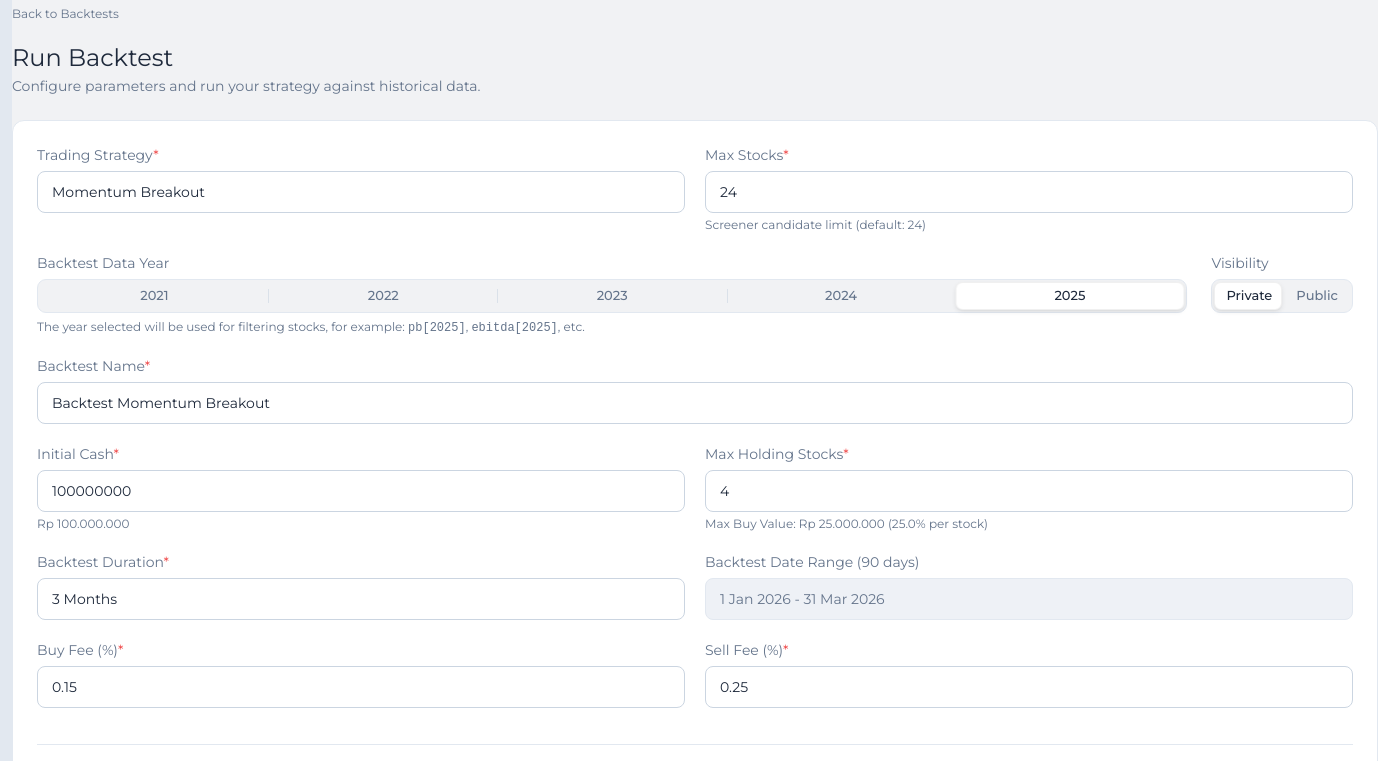
Scenario: NewBacktestPage › displays dynamic stock filtering year informative note under Backtest Data Year
Expected: the text "Backtest Date Range (90 days)" is shown, [705,553,919,571]
Expected: the text "The year selected will be used for filtering stocks" is shown, [37,319,408,334]
# Change year to 2022
Click the button "2022". click: {"x": 383, "y": 296}
box: [269,282,498,310]
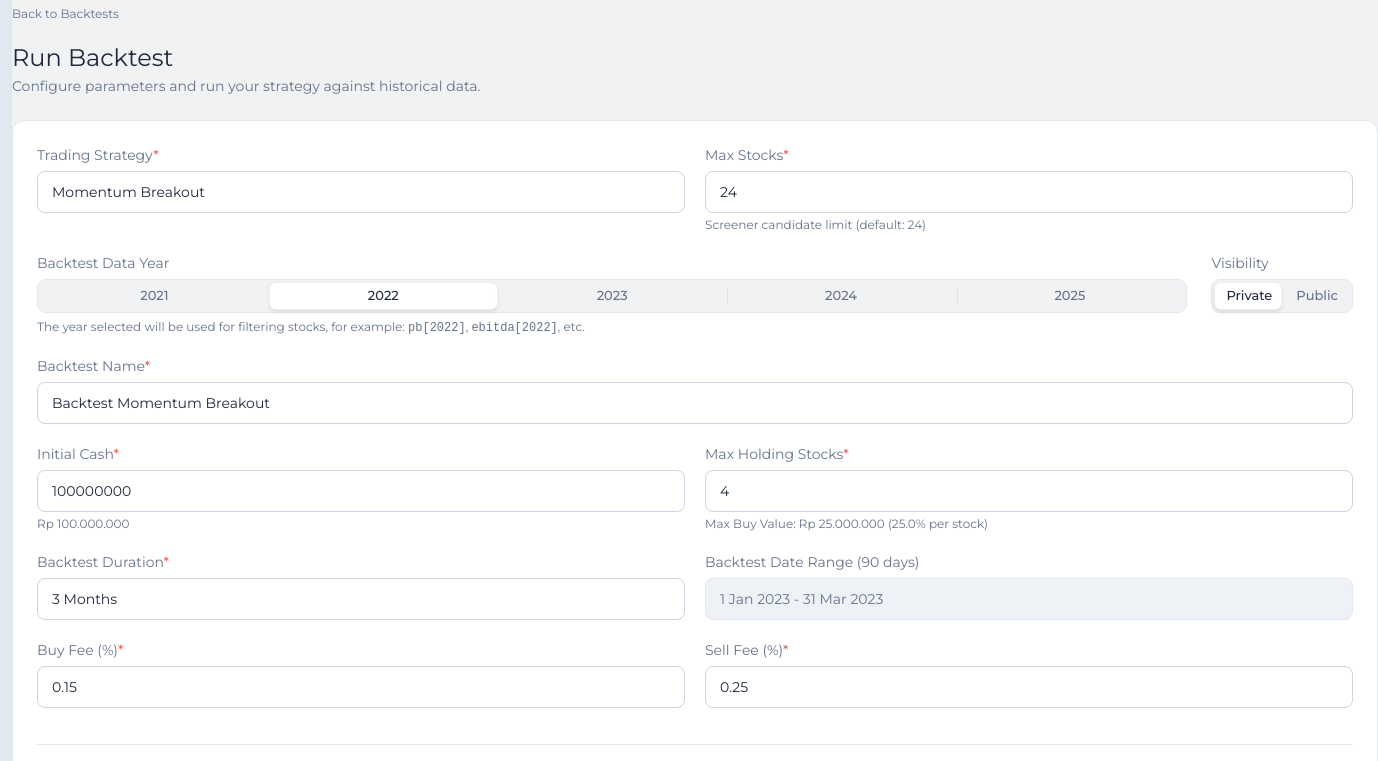
Result: the text "pb[2022]" is shown at [408,321,466,335]
Result: the text "ebitda[2022]" is shown at [471,321,558,335]
